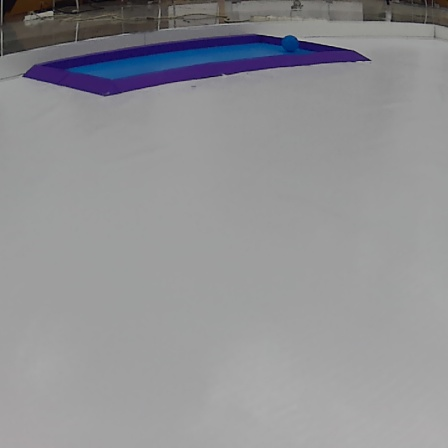blue: (283, 37, 300, 51)
blue_aim: (23, 33, 370, 86)
